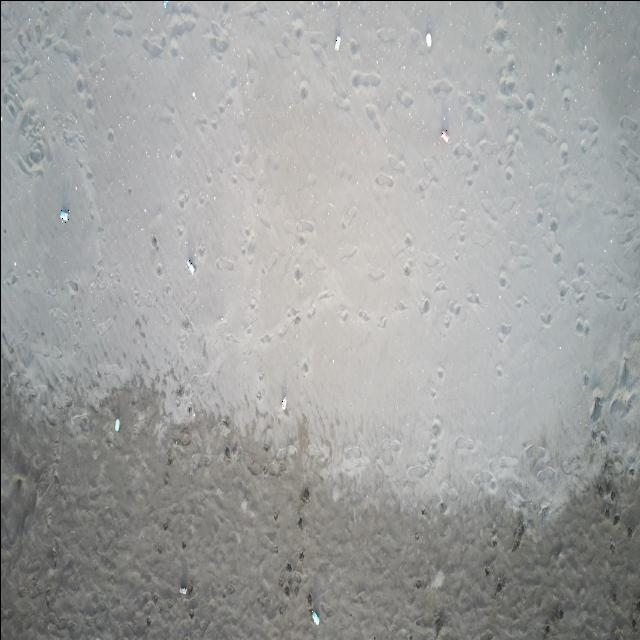Garbage: (57, 208, 68, 220), (311, 608, 319, 624), (187, 259, 195, 273), (440, 129, 447, 141), (280, 395, 286, 409), (335, 35, 340, 49), (114, 418, 119, 431), (427, 32, 431, 47), (179, 586, 187, 593), (163, 0, 167, 8)
